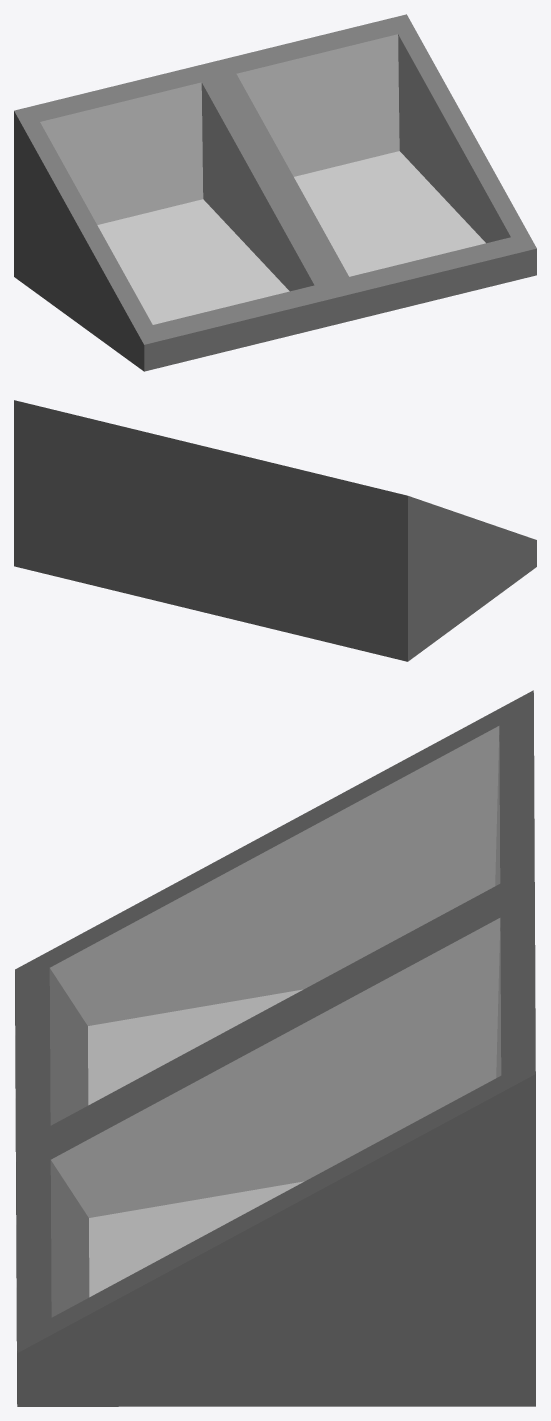
File: Liquid plat.fbx
The picture shows the model from 3 angles, top to bottom: view 1: azimuth 30°, elevation 25°; view 2: azimuth 150°, elevation 25°; view 3: azimuth 270°, elevation 25°; orthographic projection. The views are drawn at different scales.
Visible parts, largest first — view 1: Liquid plat; view 2: Liquid plat; view 3: Liquid plat.
Part boxes in pixels (x1=…): Liquid plat: x1=14, y1=14, x2=536, y2=371; Liquid plat: x1=14, y1=400, x2=536, y2=661; Liquid plat: x1=15, y1=690, x2=535, y2=1406.
Size of the model in its own units: 28.07 by 11.32 by 16.07.
